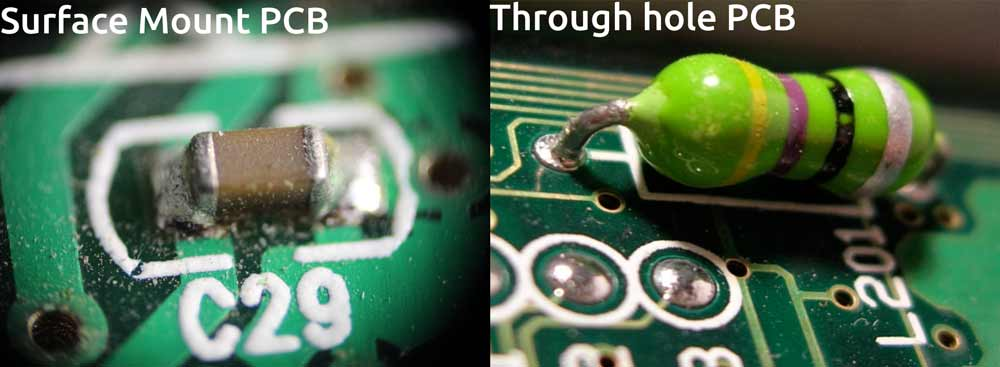resistor: (628, 53, 938, 201)
